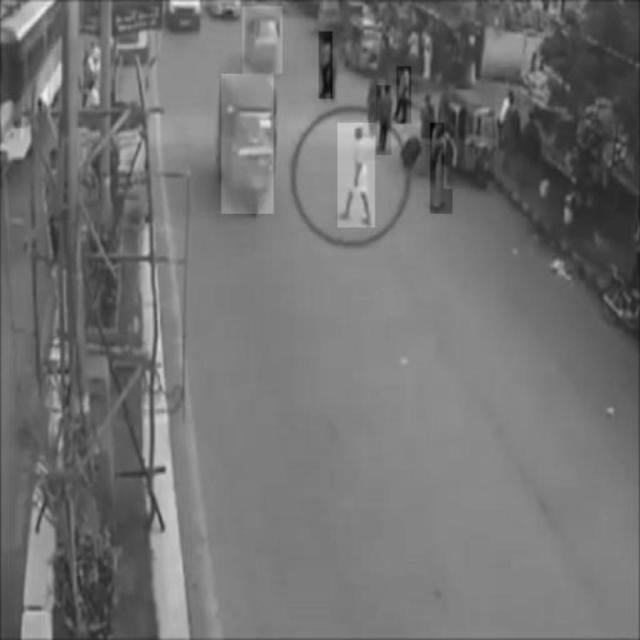person: (339, 123, 376, 227), (431, 123, 453, 214), (377, 85, 392, 155), (319, 31, 333, 98), (397, 67, 412, 124)
vehicle: (222, 74, 274, 214), (444, 88, 495, 189), (243, 7, 283, 74)
